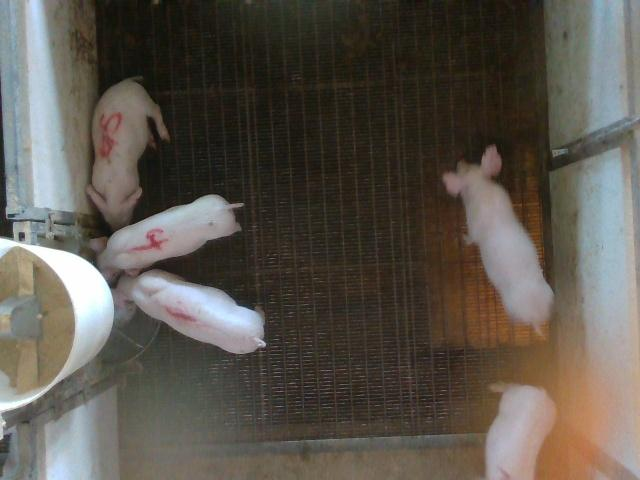pig-1: (112, 269, 265, 354)
pig-4: (99, 195, 244, 272)
pig-5: (86, 76, 170, 229)
